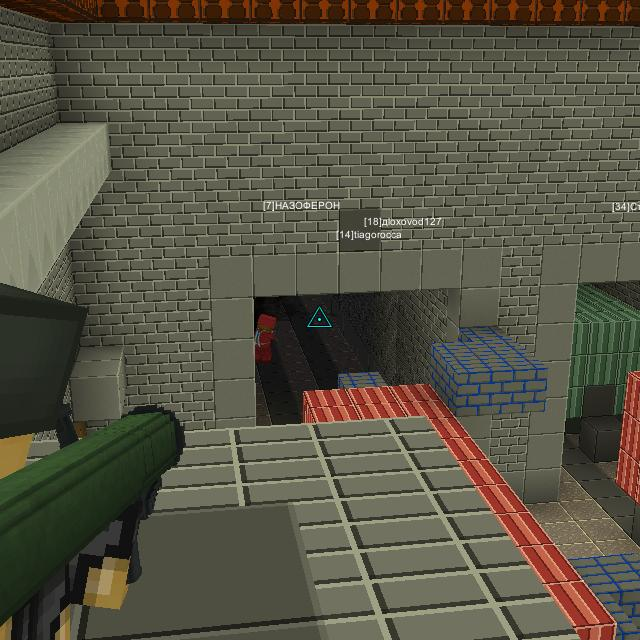enemy: (255, 312, 278, 365)
